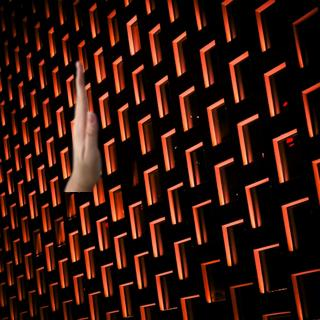Right: (59, 58, 111, 181)
